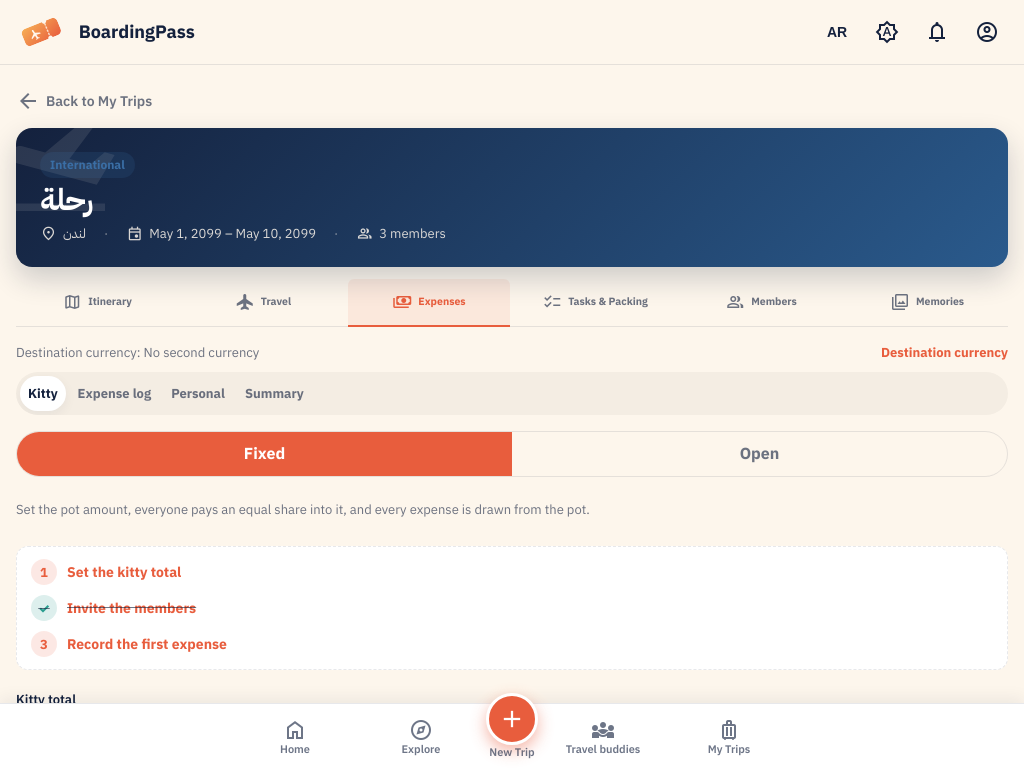
it: US-007 Expenses UI › adds a group expense to the log
Check: the tab "Kitty" is shown, box [20, 376, 66, 411]
Click the tab "Expense log" at coordinates (114, 394), box [70, 376, 159, 411]
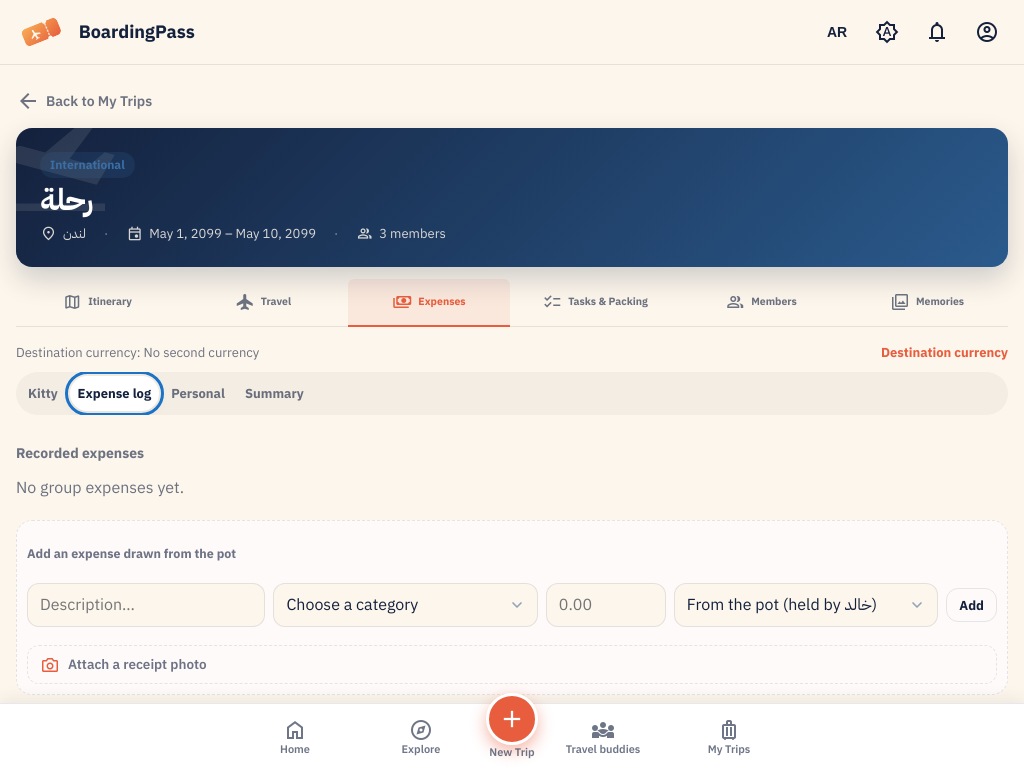
Type "Hotel" into the field labelled "Description" at coordinates (146, 605), box [27, 583, 265, 627]
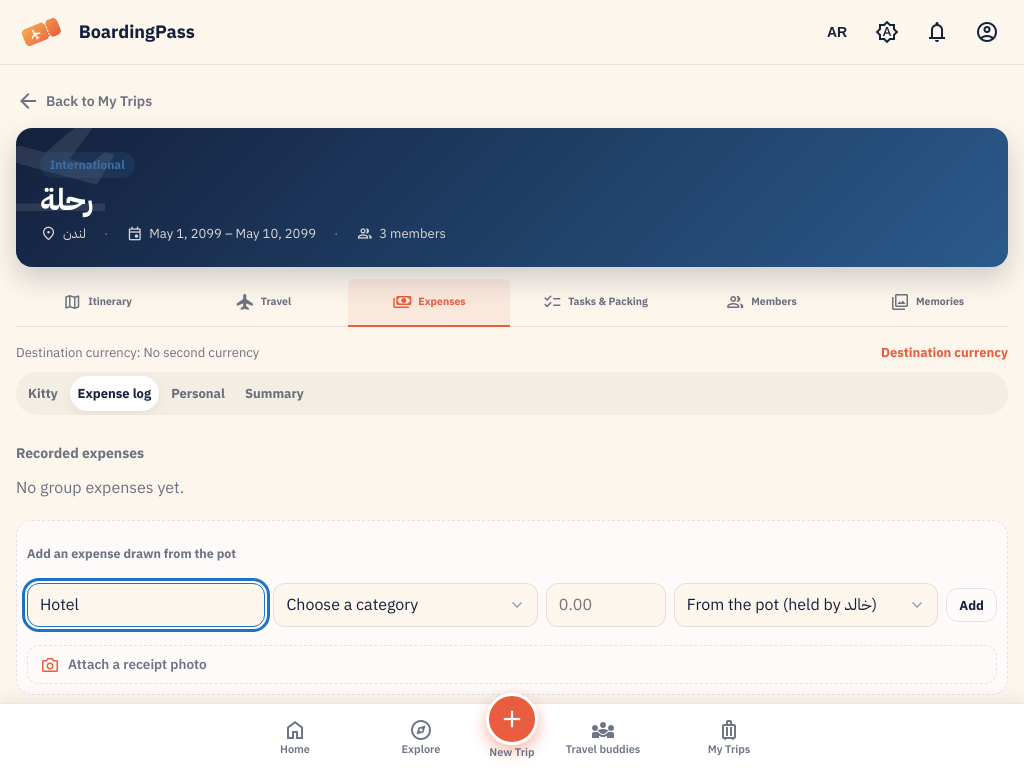
Type "800" into the number field named "Amount" at coordinates (606, 605), box [546, 583, 666, 627]
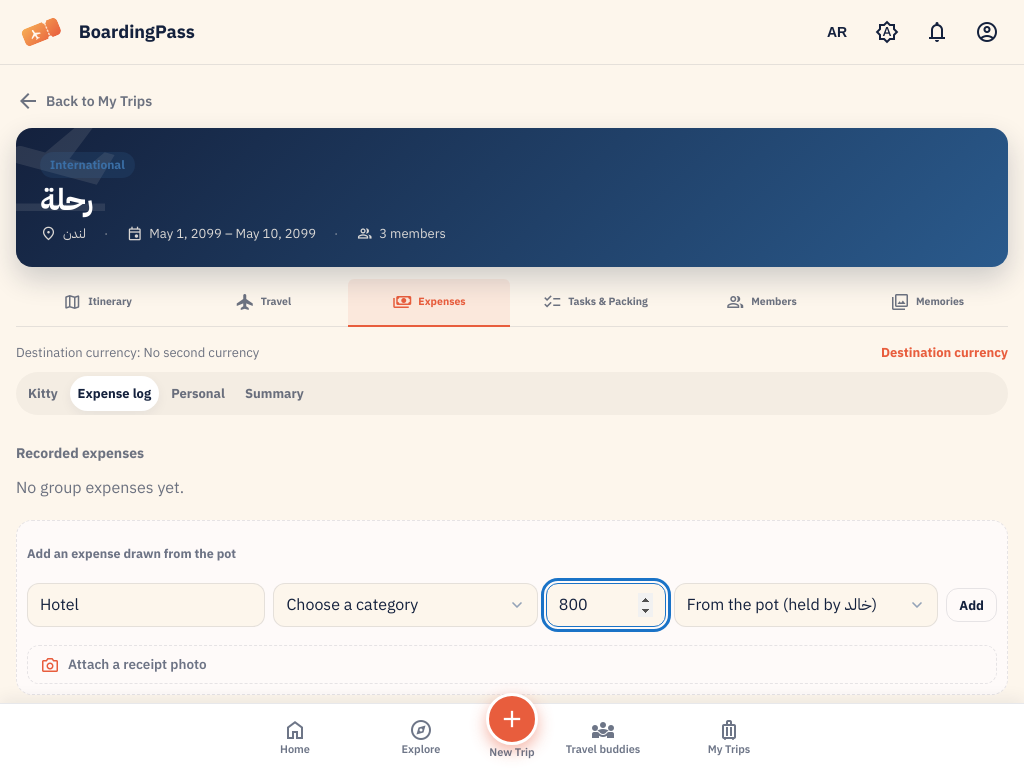
Select "Food" in the dropdown named "Category" at coordinates (406, 605), box [273, 583, 538, 627]
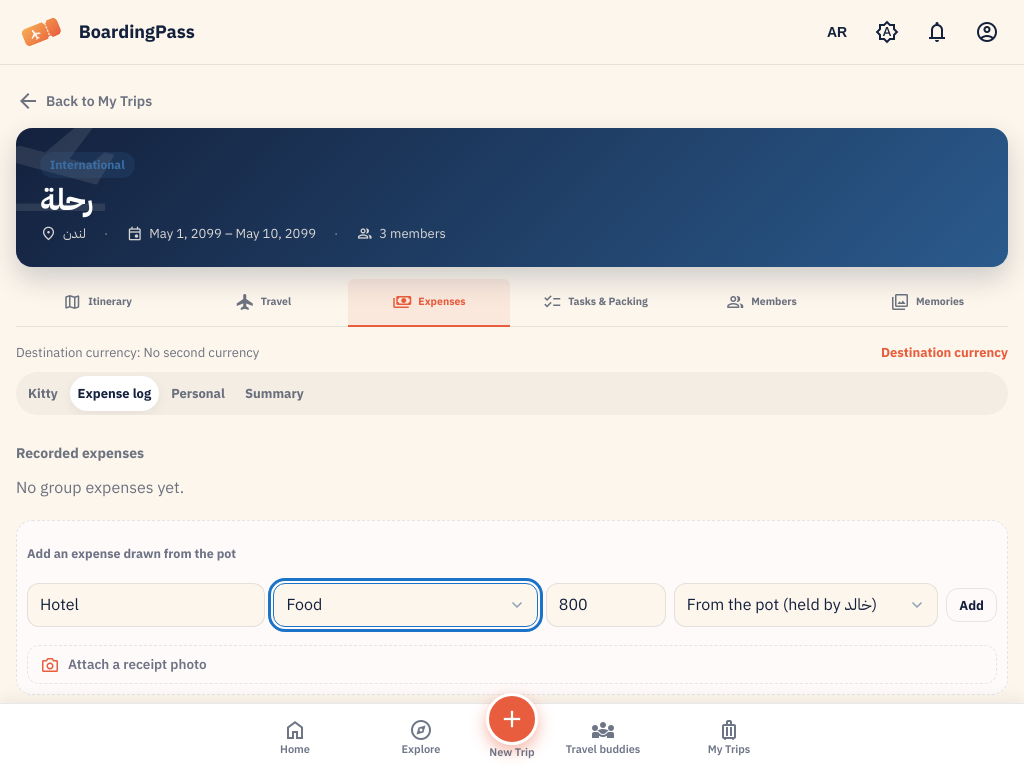
Click the button "Add" at coordinates (972, 605), box [946, 588, 997, 622]
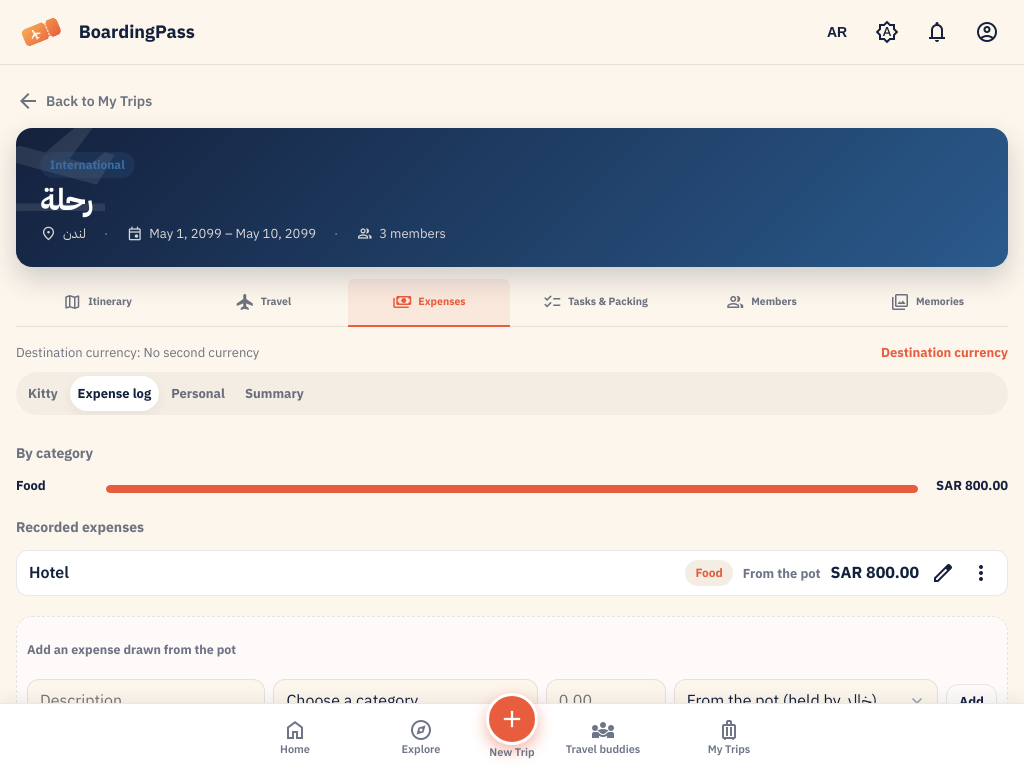
Check: the text "Hotel" is shown, box [29, 561, 69, 585]
Check: the 1st text "SAR 800.00" is shown, box [928, 476, 1008, 495]
